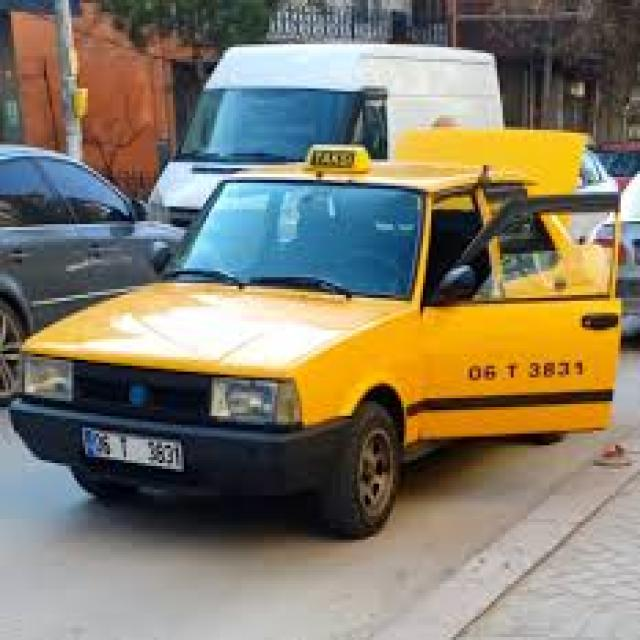car: (11, 130, 620, 536), (0, 145, 181, 401), (619, 175, 639, 330), (599, 142, 639, 191), (577, 148, 618, 194)
